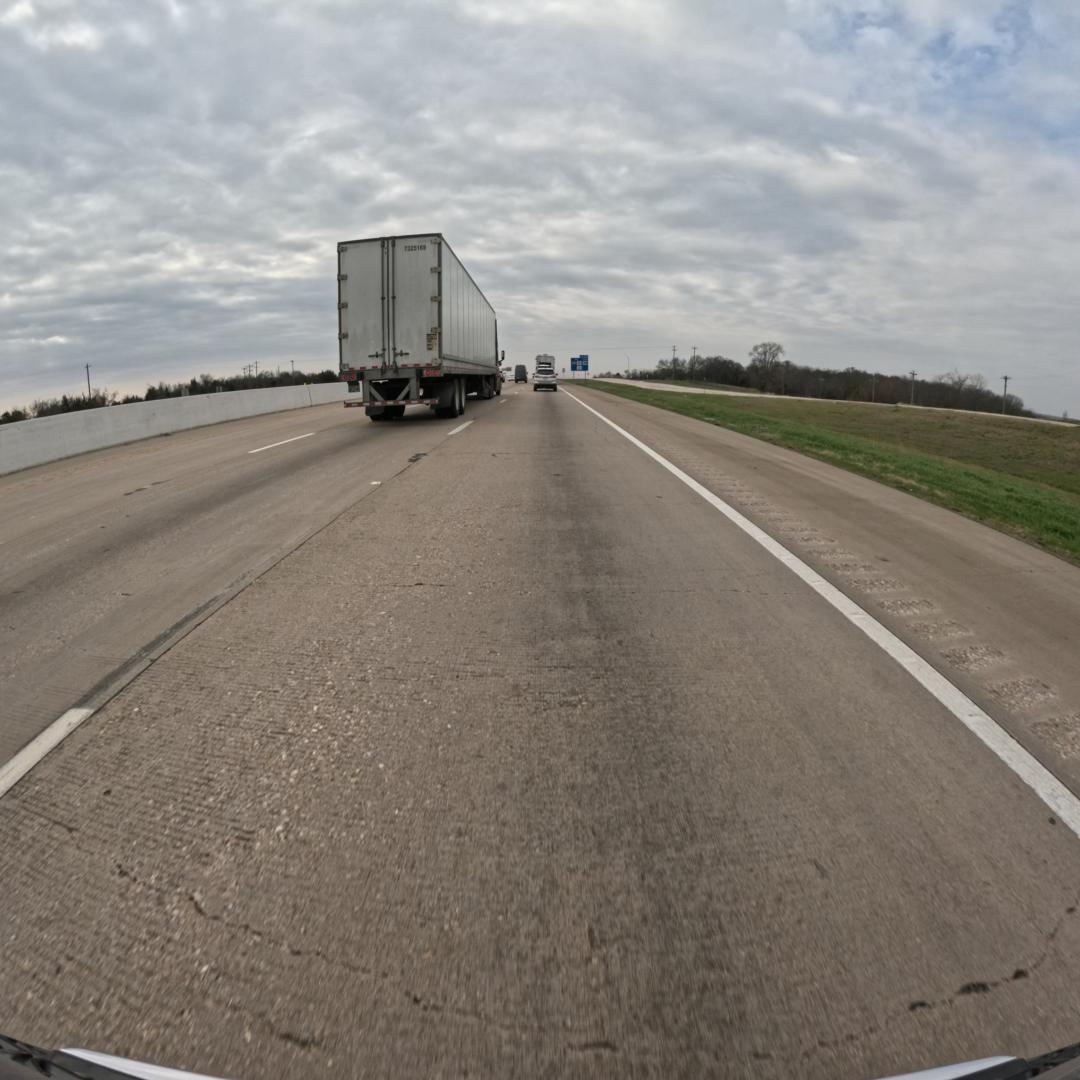lane0: (0, 396, 1080, 1077)
lane1: (0, 396, 505, 795)
